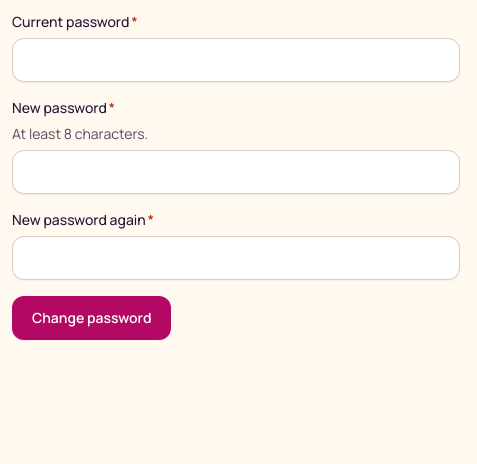
ChangePassword › says nothing changed when the service does not answer
This screenshot has width=477, height=464.
Type "old-password" into the password field labelled "Current password*" at (236, 60), box [12,38,460,82]
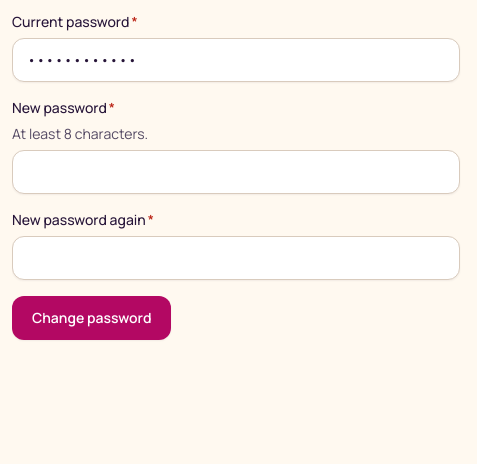
Type "new-password-long" into the password field labelled "New password*" at (236, 172), box [12,150,460,194]
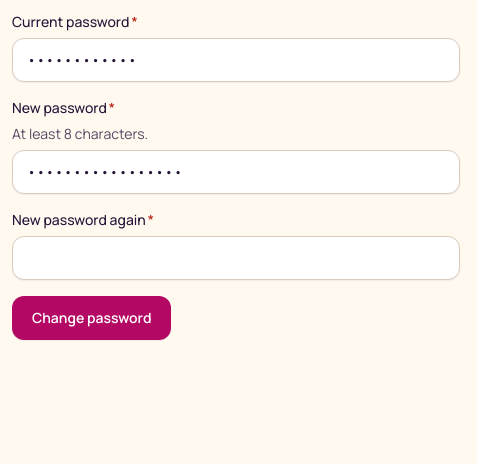
Type "new-password-long" into the password field labelled "New password again*" at (236, 258), box [12,236,460,280]
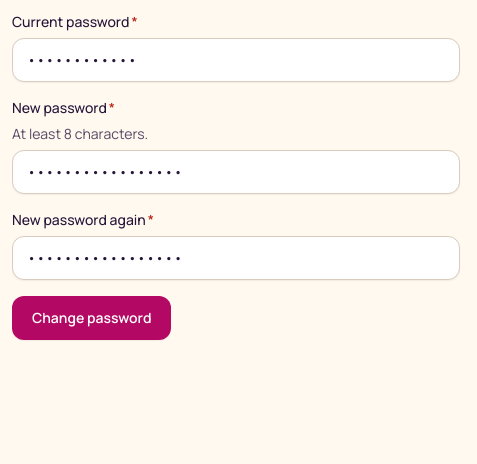
Click the button "Change password" at (92, 318), box [12,296,171,340]
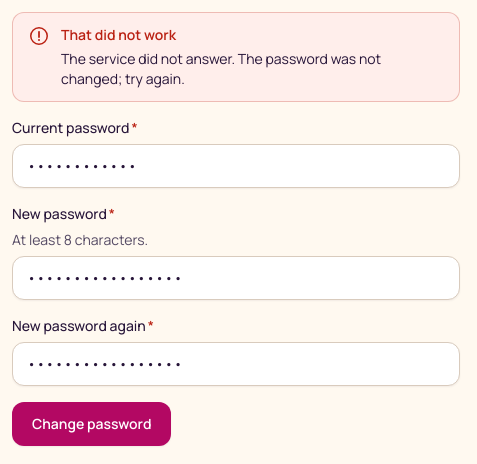
expect the message shows "was not changed": met, box [61,49,381,88]
